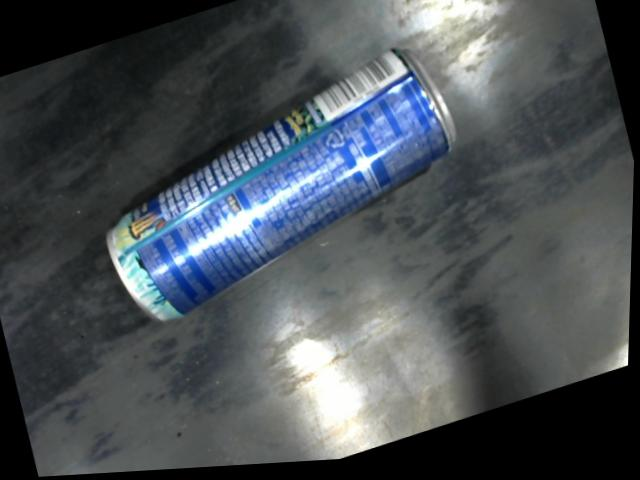can: (106, 50, 461, 327)
